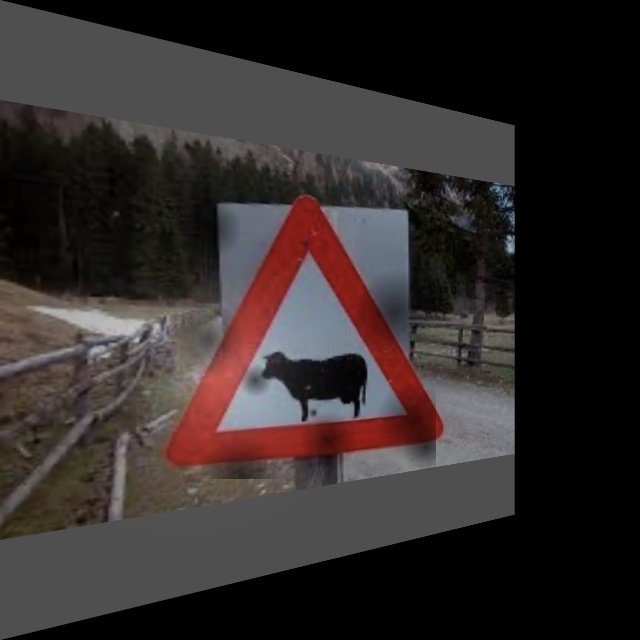Cattle: (171, 192, 436, 479)
